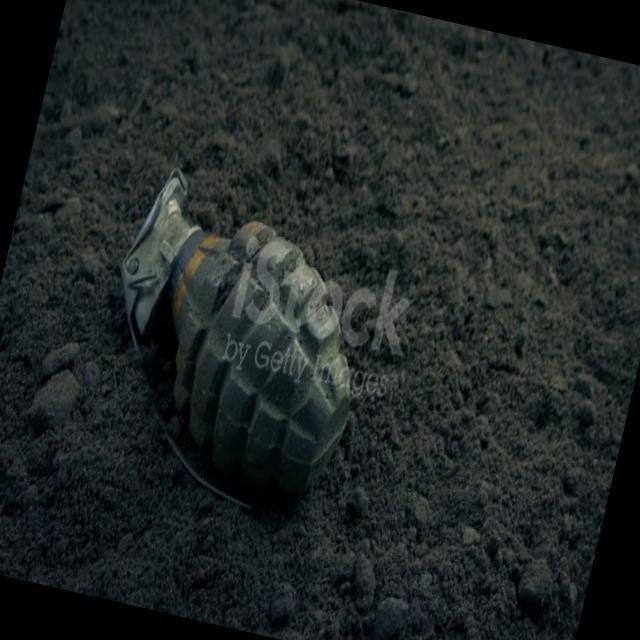grenade: (72, 159, 392, 528)
